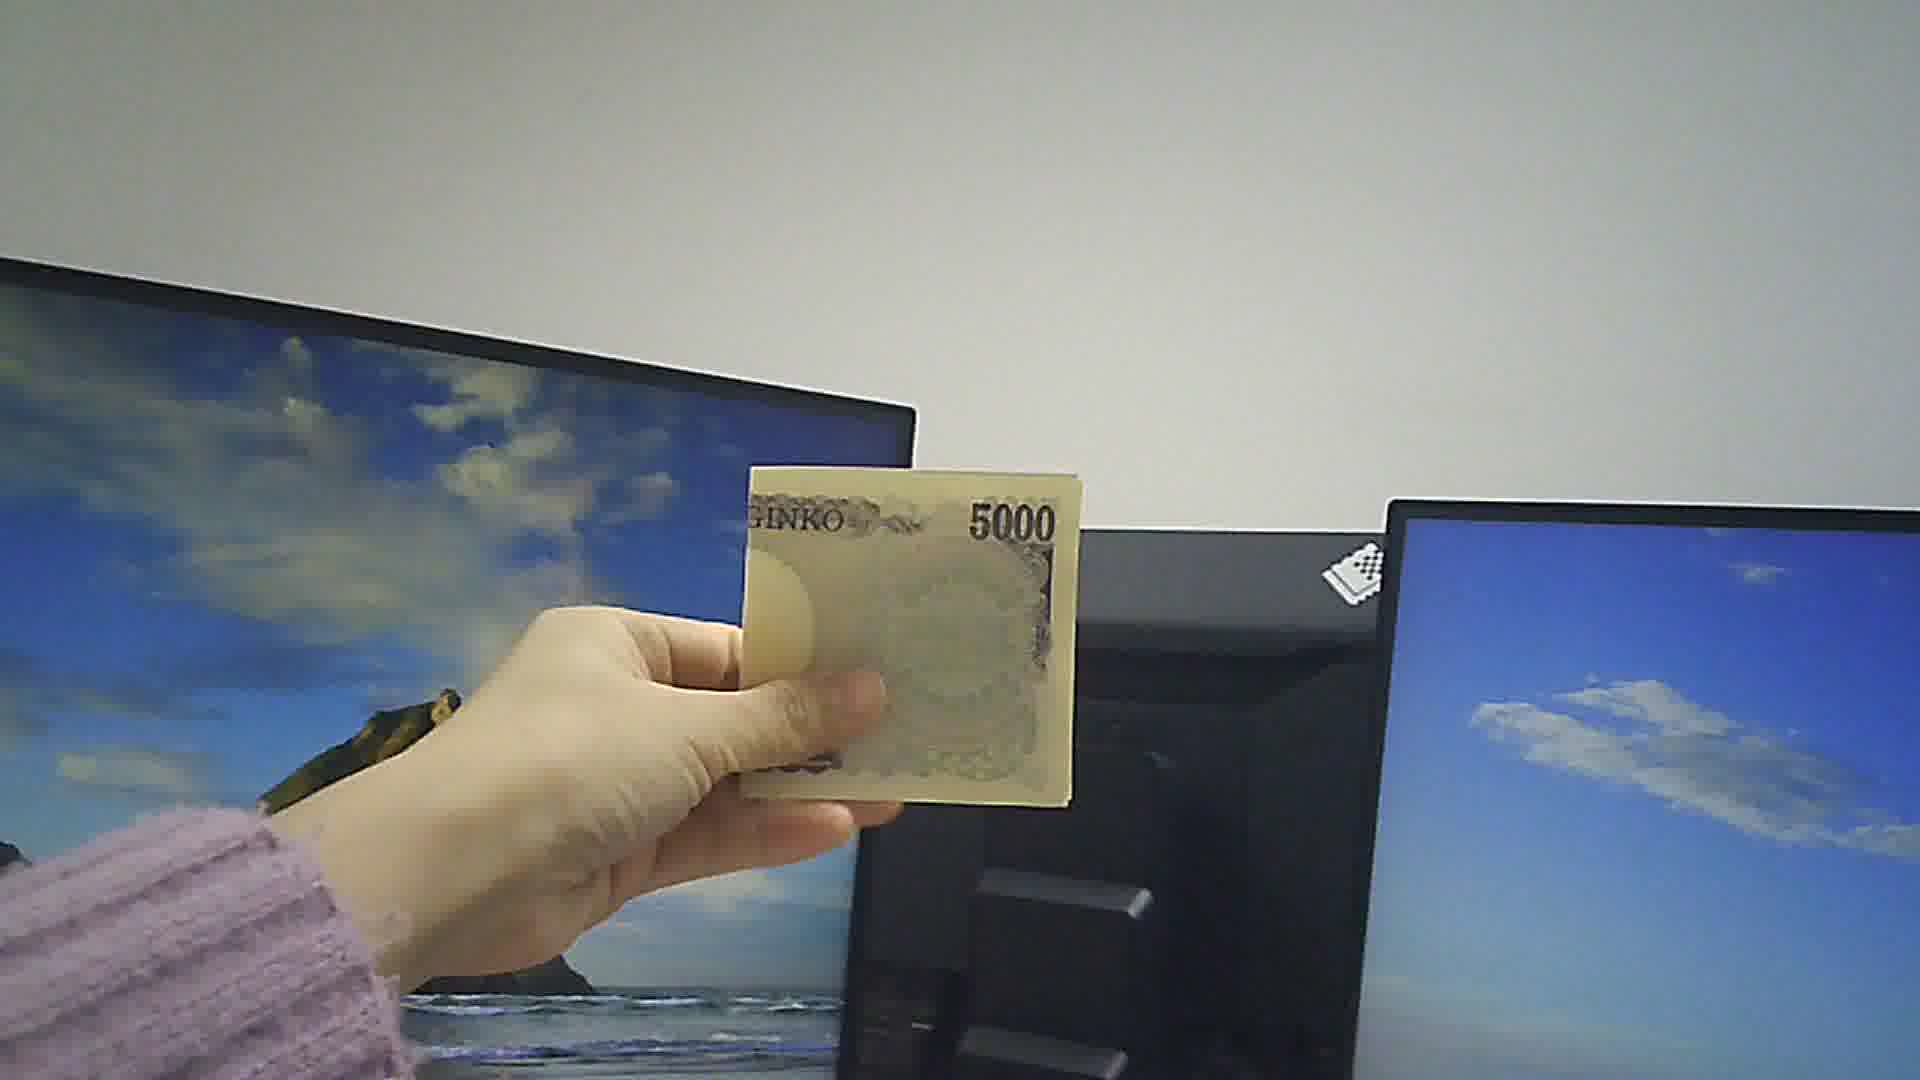5,000 Yen: (733, 454, 1093, 823)
